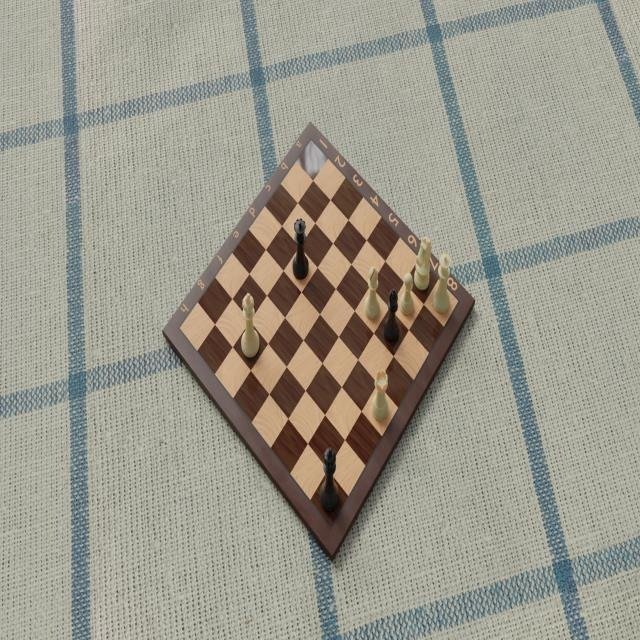black-bishop: (383, 286, 401, 345)
black-king: (321, 444, 341, 515)
black-queen: (292, 217, 312, 283)
white-bishop: (365, 264, 383, 321)
white-king: (239, 289, 261, 359)
white-knight: (414, 231, 434, 293)
white-pawn: (399, 270, 416, 316)
white-queen: (431, 249, 452, 314)
white-rook: (370, 366, 390, 426)
